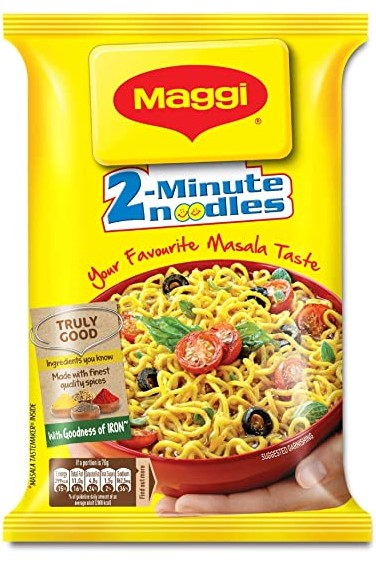maggi: (3, 10, 376, 545)
